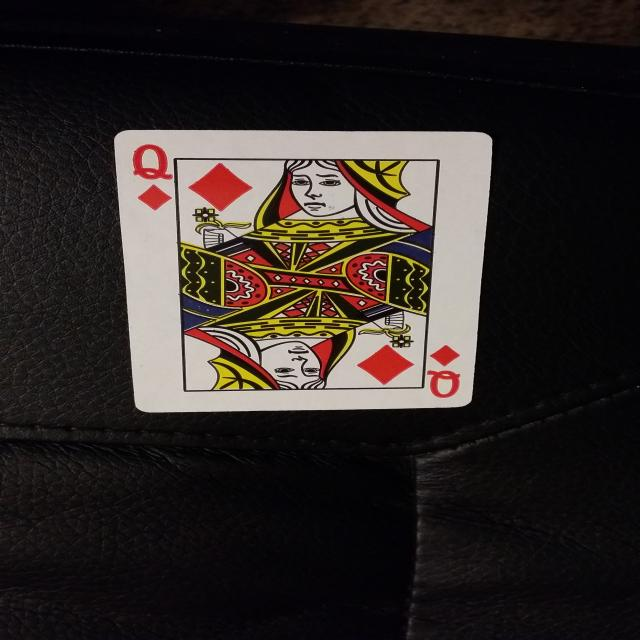Qd: (117, 139, 186, 211), (412, 339, 469, 401)
